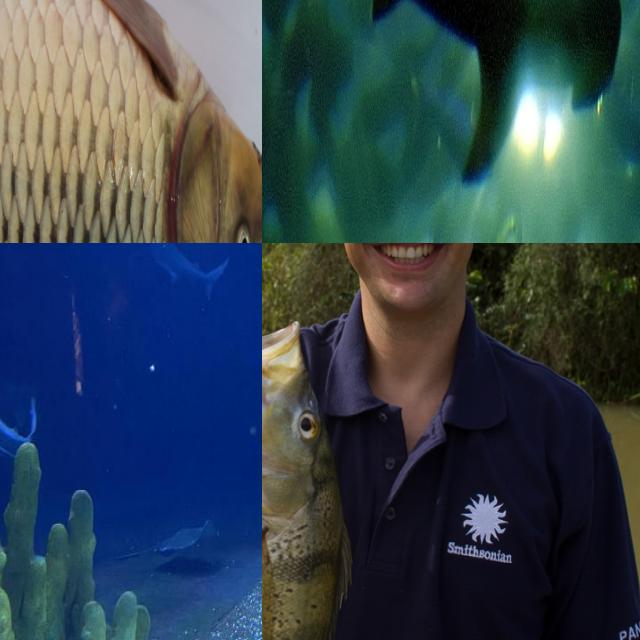fish: (0, 0, 262, 243), (262, 318, 350, 640)
